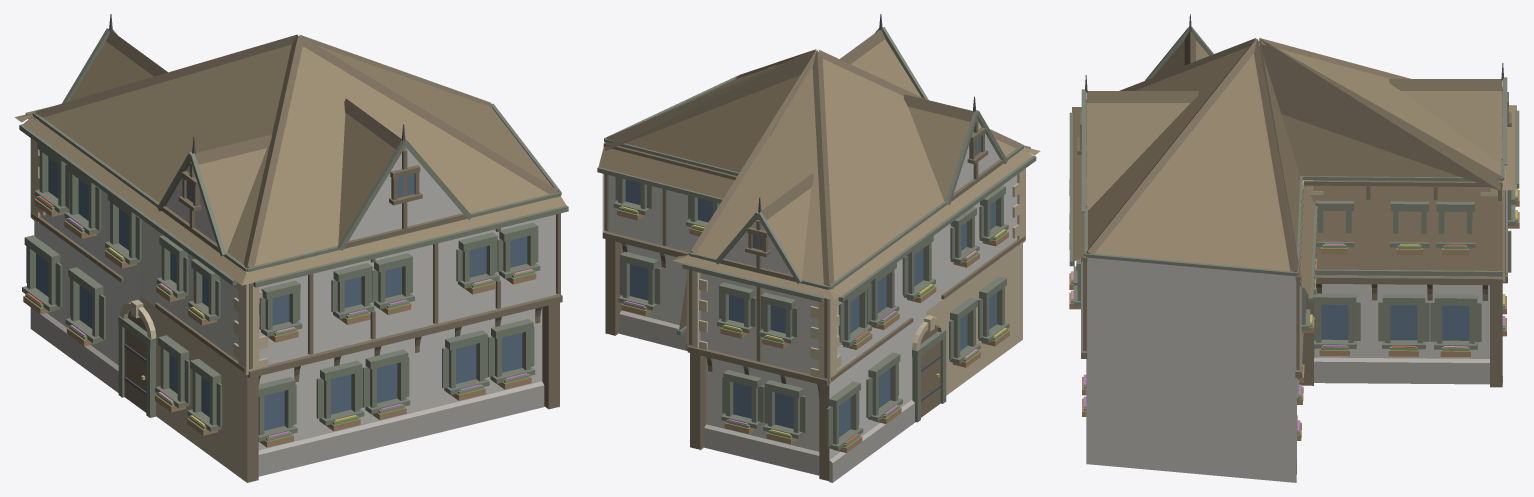
Rendered from b137_closed.glb.
3 views of the same model, side by side, from view 1: azimuth 30°, elevation 25°; view 2: azimuth 150°, elevation 25°; view 3: azimuth 270°, elevation 25° (orthographic). The views are drawn at different scales.
Visible parts, largest first — view 1: B137_visible; view 2: B137_visible; view 3: B137_visible.
Boxes of the visible parts, x1,y1,x2,y2 form: B137_visible: (15, 14, 568, 482); B137_visible: (597, 14, 1040, 482); B137_visible: (1069, 14, 1519, 482).
Bounding box in the file's own units: 12.39 × 11.27 × 13.4.
